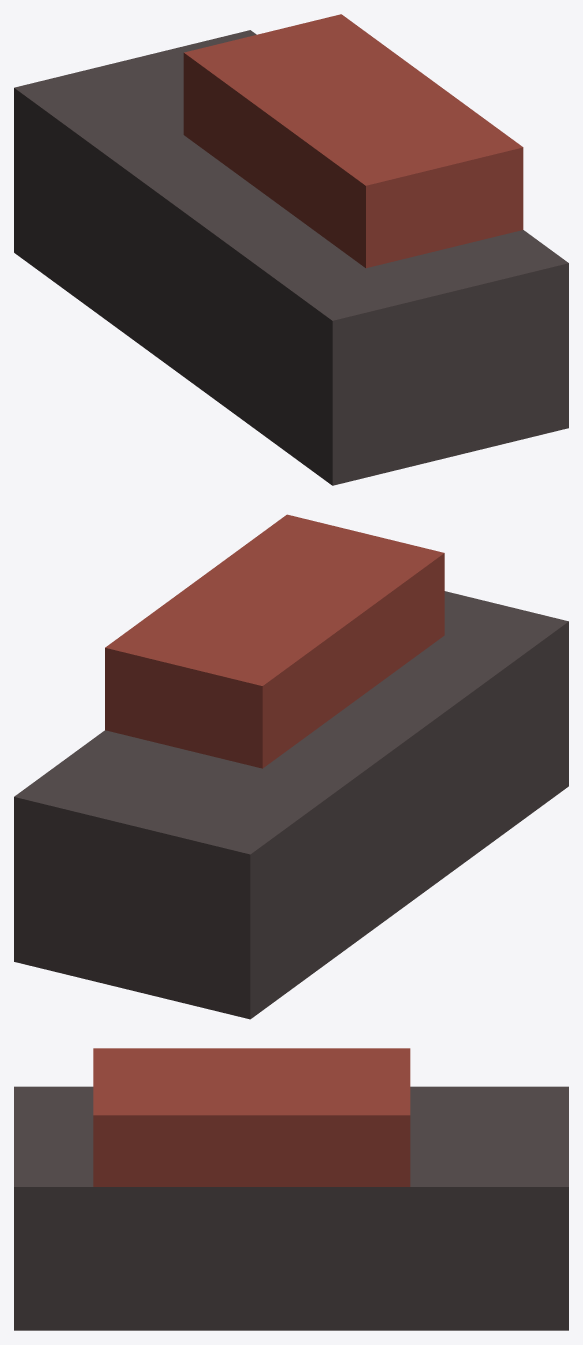
The model's file is scale_masterwork_boot_foot_L_lod1.glb.
3 views of the same model, one above another, from view 1: azimuth 30°, elevation 25°; view 2: azimuth 150°, elevation 25°; view 3: azimuth 270°, elevation 25° (orthographic). The views are drawn at different scales.
Visible parts, largest first — view 1: scale_masterwork_boot_foot_L_lod1; view 2: scale_masterwork_boot_foot_L_lod1; view 3: scale_masterwork_boot_foot_L_lod1.
Part boxes in pixels (x1,y1,x2,y2): scale_masterwork_boot_foot_L_lod1: [14, 14, 568, 485]; scale_masterwork_boot_foot_L_lod1: [14, 514, 568, 1019]; scale_masterwork_boot_foot_L_lod1: [14, 1048, 568, 1330].
Size of the model in its own units: 0.144 by 0.144 by 0.336.
